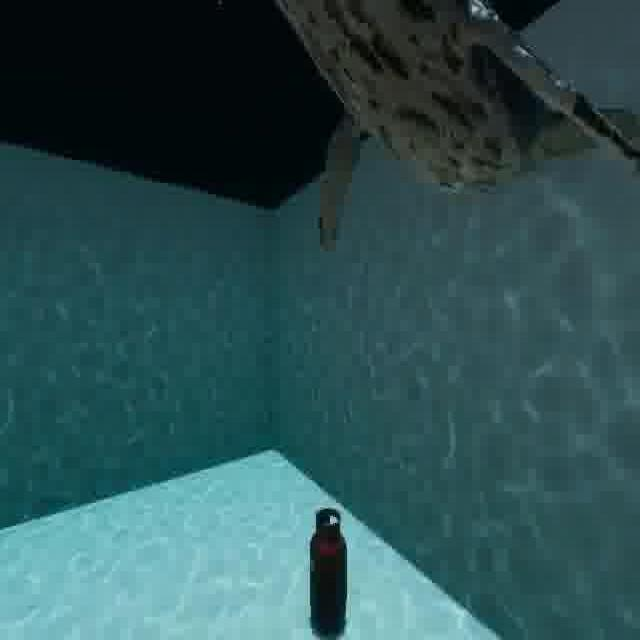Cylinder: (294, 490, 381, 640)
Whale: (206, 0, 640, 264)
